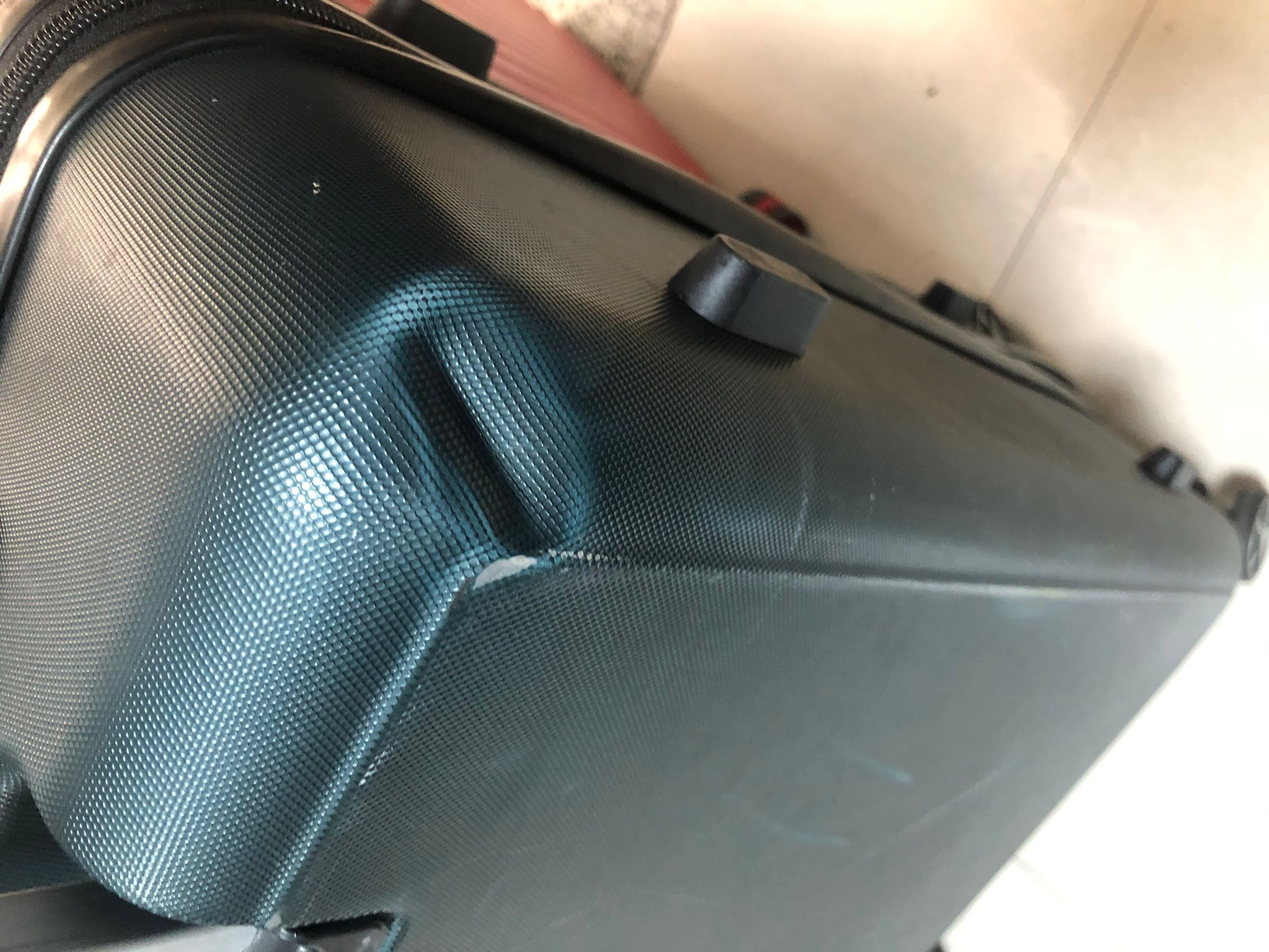rupture: (371, 276, 584, 570)
